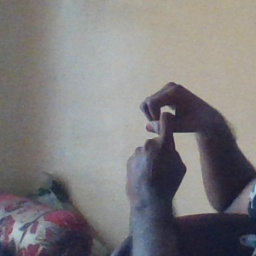Q: (120, 82, 218, 192)
